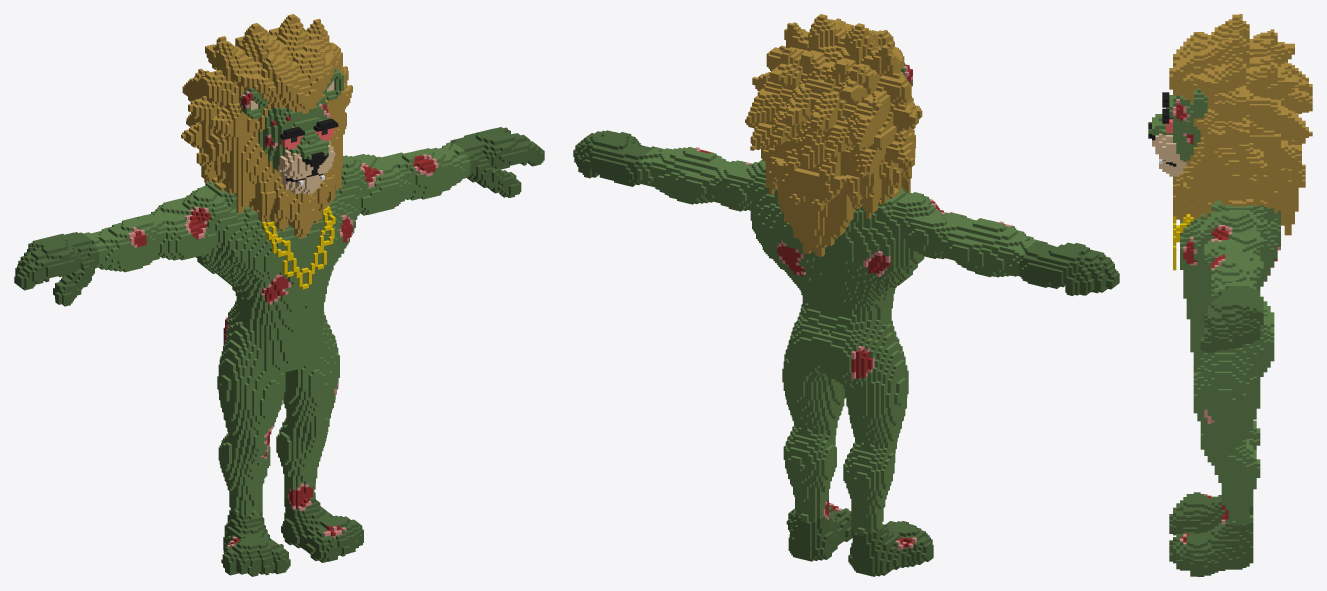
The picture shows the model from 3 angles, left to right: view 1: azimuth 30°, elevation 25°; view 2: azimuth 150°, elevation 25°; view 3: azimuth 270°, elevation 25°; orthographic projection. The views are drawn at different scales.
Parts seen in each view (by area): view 1: standard; view 2: standard; view 3: standard.
Boxes of the visible parts, bbox=[...] form: standard: bbox=[14, 14, 544, 576]; standard: bbox=[573, 14, 1119, 576]; standard: bbox=[1148, 14, 1312, 576].
Bounding box in the file's own units: 17.2 × 16.5 × 4.7.
5 materials, 5 textured.
